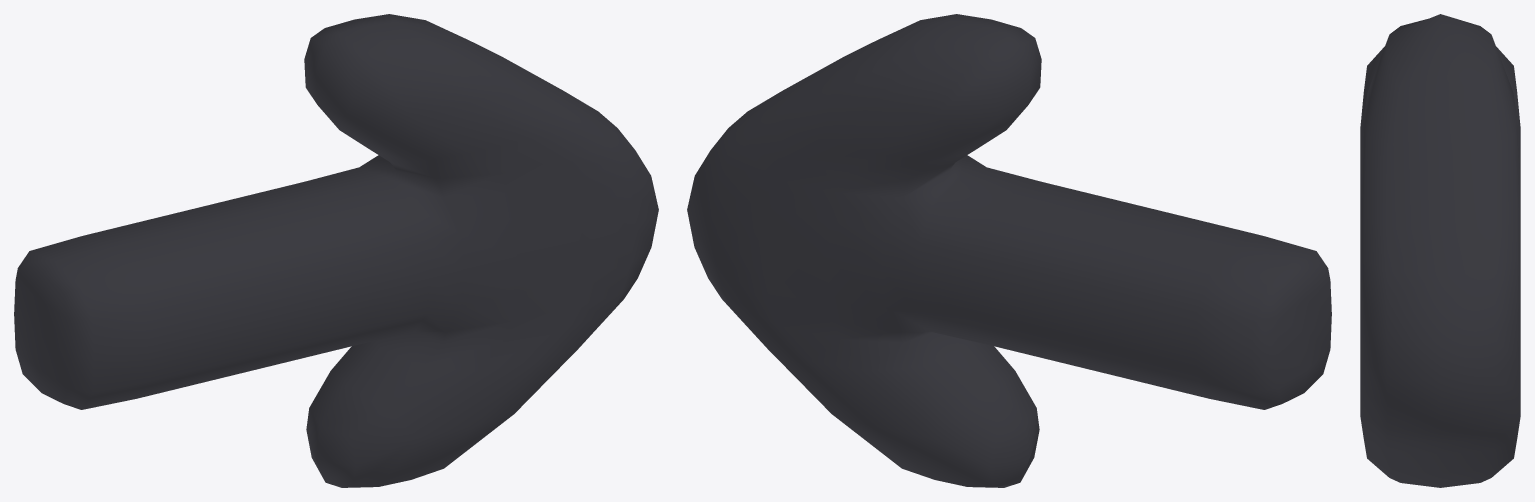
File: arrow_black.glb
3 views of the same model, side by side, from view 1: azimuth 30°, elevation 25°; view 2: azimuth 150°, elevation 25°; view 3: azimuth 270°, elevation 25° (orthographic).
Parts seen in each view (by area): view 1: Cube.005; view 2: Cube.005; view 3: Cube.005.
Part boxes in pixels (x1,y1,x2,y2): Cube.005: (14, 14, 658, 487); Cube.005: (687, 14, 1331, 487); Cube.005: (1360, 14, 1520, 487).
Bounding box in the file's own units: 4.39 × 3.17 × 1.02.
1 material, 1 textured.
